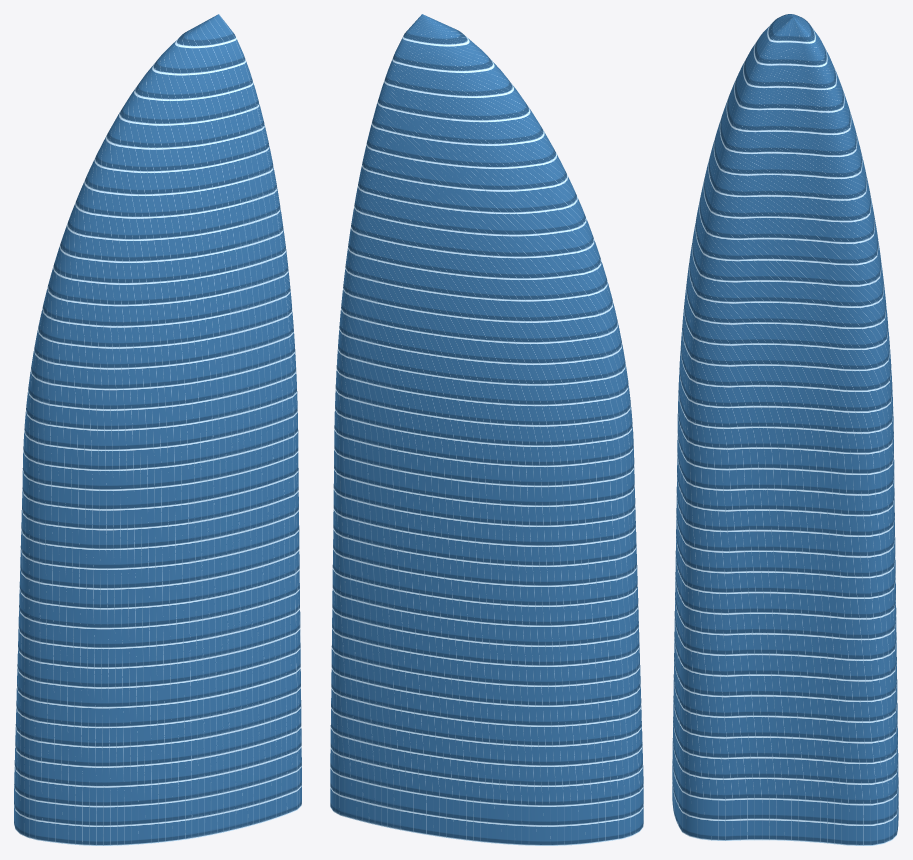
Rendered from landmark-flame-tower-2.glb.
3 views of the same model, side by side, from view 1: azimuth 30°, elevation 25°; view 2: azimuth 150°, elevation 25°; view 3: azimuth 270°, elevation 25° (orthographic). The views are drawn at different scales.
Parts seen in each view (by area): view 1: flame-tower-2; view 2: flame-tower-2; view 3: flame-tower-2.
Part boxes in pixels (x1,y1,x2,y2): flame-tower-2: (14, 14, 301, 845); flame-tower-2: (330, 14, 643, 845); flame-tower-2: (672, 14, 898, 845).
Bounding box in the file's own units: 64.2 × 181 × 46.27.
Materials: 1 (1 with a texture image).
